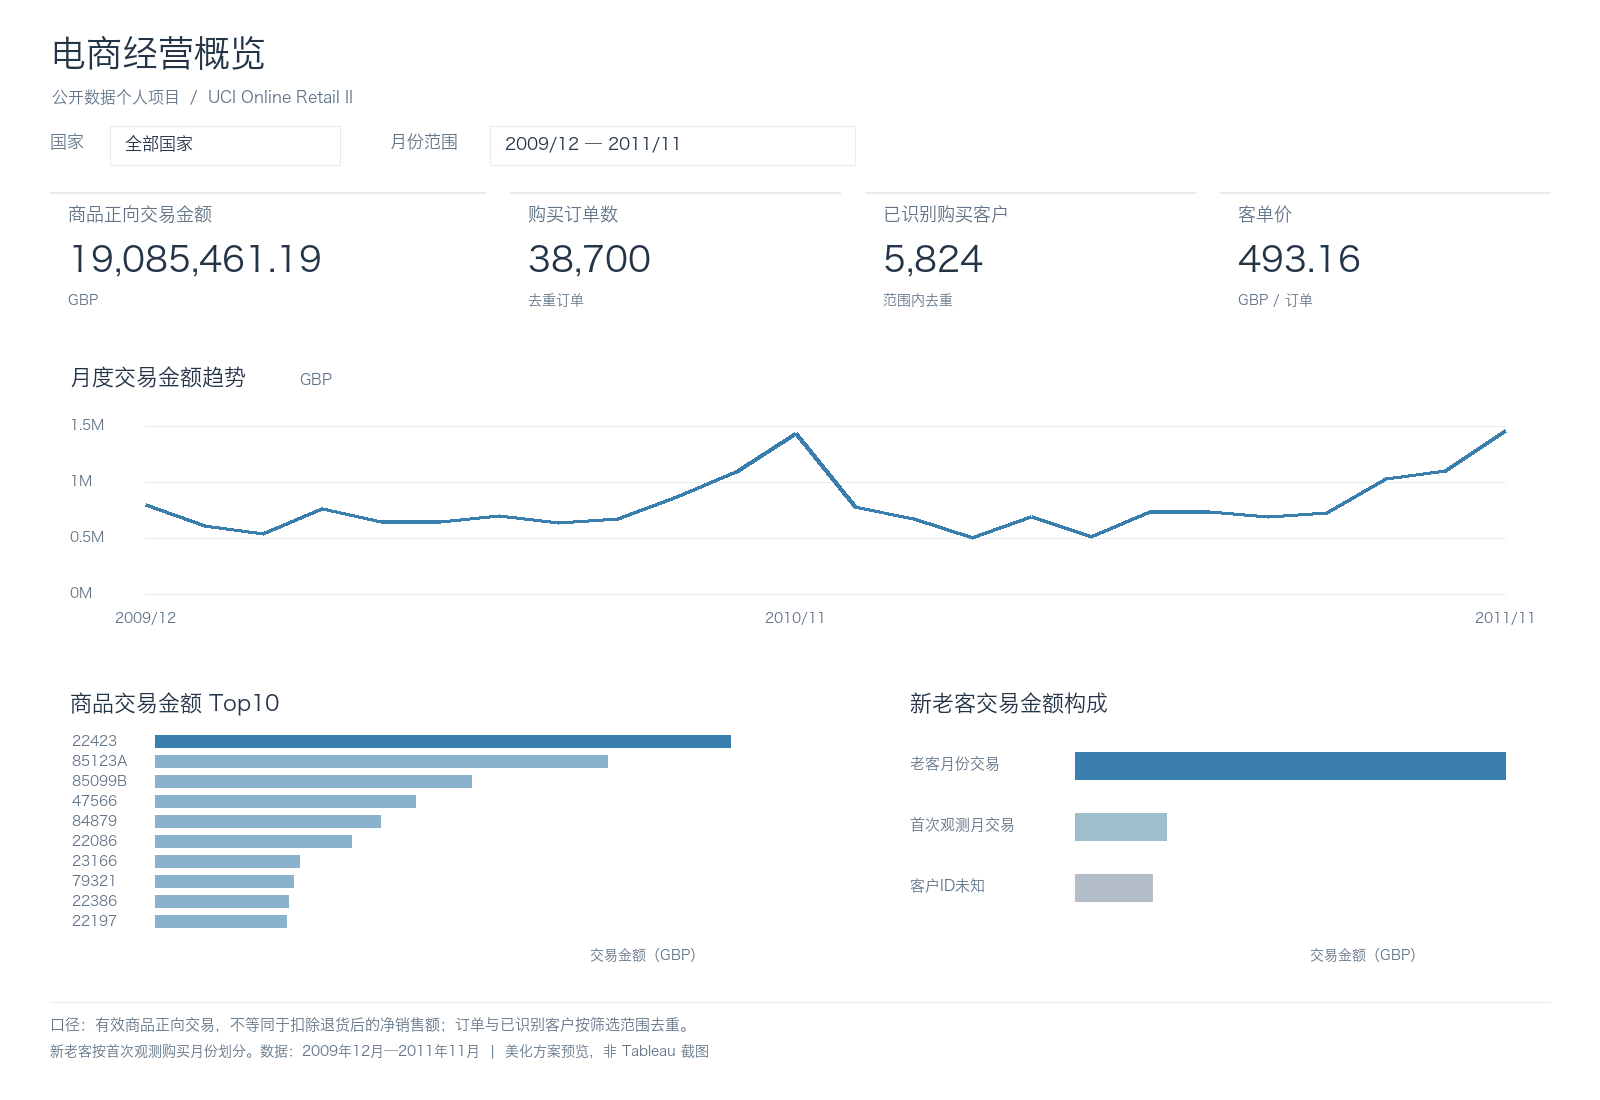

The page's visual inventory and layout, read from the dashboard file:
{"tool":"tableau","page":{"name":"电商经营概览","canvas":[1200,800],"ordinal":0},"visuals":[{"type":"title","box":[8,8,1184,70]},{"type":"filter","title":"经营概览－商品排名","param":"[federated.157g0j00ozi3fg13ckk121qpsyf8].[none:Country:nk]","box":[8,78,430,63]},{"type":"filter","title":"经营概览－月度趋势","param":"[federated.157g0j00ozi3fg13ckk121qpsyf8].[none:Month:qk]","box":[438,78,754,63]},{"type":"worksheet","title":"经营概览－金额","mark":"Text","box":[8,141,296,82]},{"type":"worksheet","title":"经营概览－订单数","mark":"Automatic","box":[304,141,296,82]},{"type":"worksheet","title":"经营概览－客户数","mark":"Automatic","box":[600,141,296,82]},{"type":"worksheet","title":"经营概览－客单价","mark":"Automatic","box":[896,141,296,82]},{"type":"worksheet","title":"经营概览－月度趋势","mark":"Bar","rows":["LineAmount"],"cols":["Month"],"box":[8,222.7,1184,222.3]},{"type":"worksheet","title":"经营概览－商品排名","mark":"Automatic","rows":["StockCode","Calculation_2552719231754242"],"cols":["LineAmount"],"box":[8,445,608,306]},{"type":"worksheet","title":"经营概览－新老客构成","mark":"Bar","rows":["CustomerType"],"cols":["LineAmount"],"box":[616,445,576,306]},{"type":"text","box":[8,751,1184,41]}]}

Visuals, with their boxes on the page's 1200x800 design canvas (x1, y1, x2, y2). These are canvas units, not pixel positions in the 1600x1100 screenshot, which may show the page scaled, cropped or inside an application window:
title: box=[8, 8, 1192, 78]
"经营概览－商品排名" filter: box=[8, 78, 438, 141]
"经营概览－月度趋势" filter: box=[438, 78, 1192, 141]
"经营概览－金额" worksheet (Text marks): box=[8, 141, 304, 223]
"经营概览－订单数" worksheet: box=[304, 141, 600, 223]
"经营概览－客户数" worksheet: box=[600, 141, 896, 223]
"经营概览－客单价" worksheet: box=[896, 141, 1192, 223]
"经营概览－月度趋势" worksheet (Bar marks): box=[8, 223, 1192, 445]
"经营概览－商品排名" worksheet: box=[8, 445, 616, 751]
"经营概览－新老客构成" worksheet (Bar marks): box=[616, 445, 1192, 751]
text: box=[8, 751, 1192, 792]
